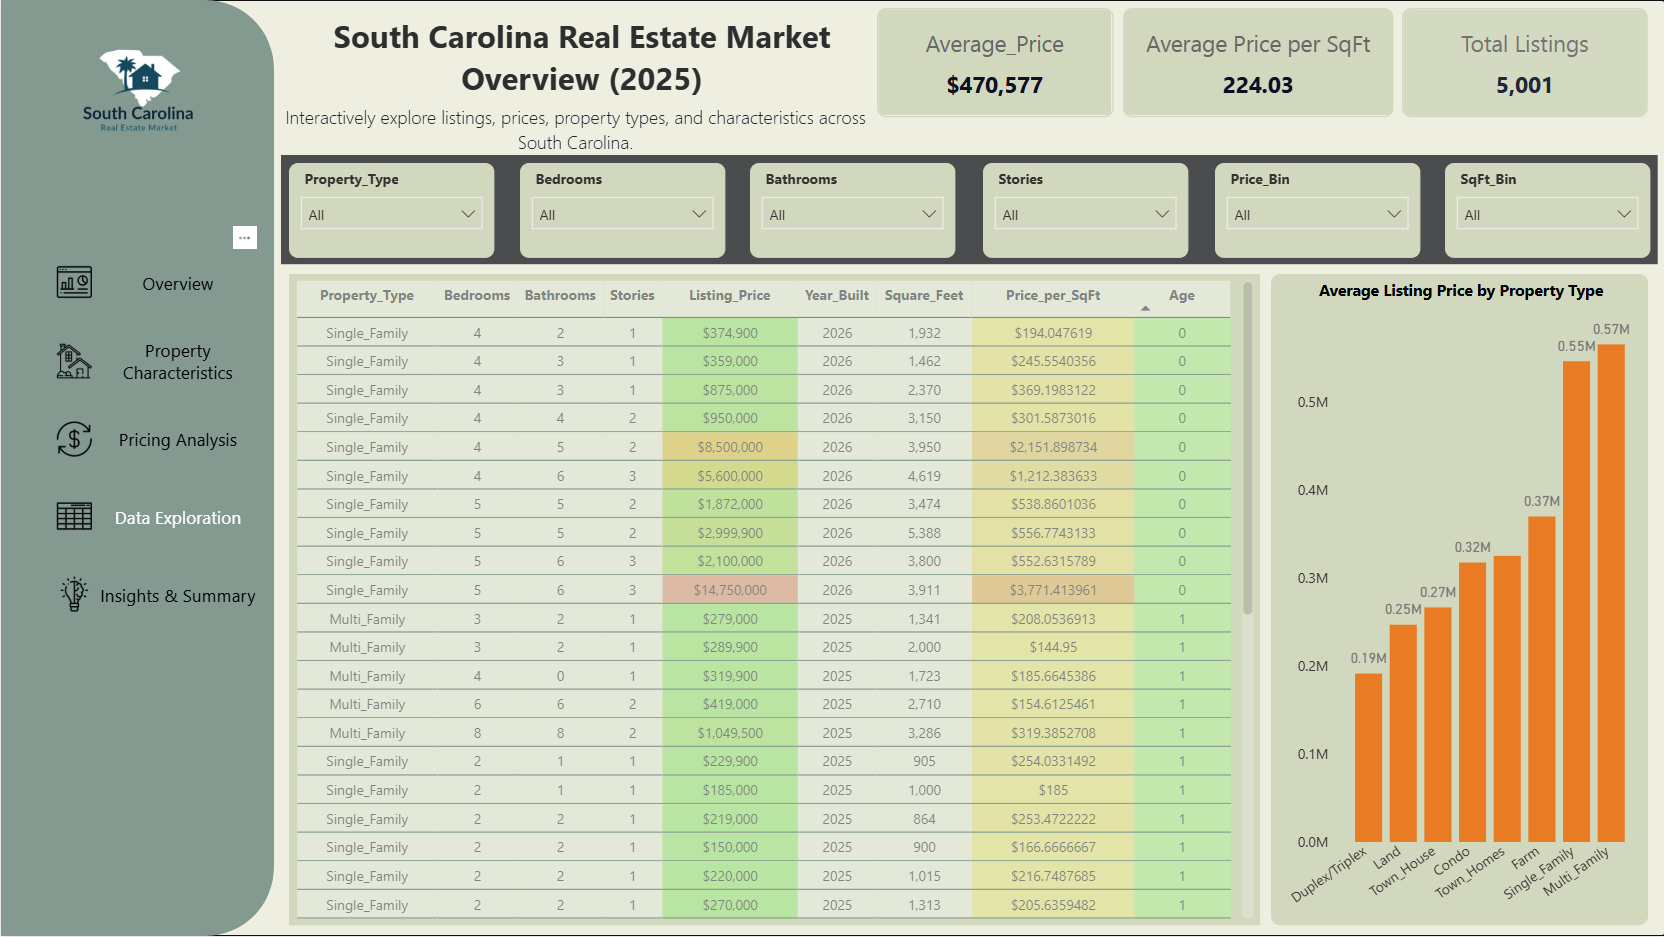

The page's visual inventory and layout, read from the dashboard file:
{"tool":"powerbi","page":{"name":"Data Exploration","canvas":[1280,720],"ordinal":3},"visuals":[{"type":"shape","box":[215.3,119.3,1059.3,84],"z":0},{"type":"shape","box":[0,0,210,720],"z":1000},{"type":"pageNavigator","box":[74.3,192.1,123.6,291.4],"z":2000},{"type":"image","box":[37,438.6,39.3,37.1],"z":3000},{"type":"image","box":[37,259.3,39.3,37.1],"z":4000},{"type":"image","box":[37,378.6,39.3,37.1],"z":5000},{"type":"image","box":[37,198.6,39.3,37.1],"z":6000},{"type":"image","box":[37,319.3,39.3,37.1],"z":7000},{"type":"image","box":[0,0,210,141.4],"z":8000},{"type":"textbox","box":[220,6,454,84],"z":9000},{"type":"textbox","box":[210,75,464,50],"z":10000},{"type":"slicer","fields":{"Values":["realestate_data_southcarolina_2025.Property_Type"]},"box":[221.8,125.5,158.2,72.7],"z":11000},{"type":"slicer","fields":{"Values":["realestate_data_southcarolina_2025.Bedrooms"]},"box":[399.1,125.5,158.2,72.7],"z":12000},{"type":"slicer","fields":{"Values":["realestate_data_southcarolina_2025.Bathrooms"]},"box":[576.4,125.5,158.2,72.7],"z":13000},{"type":"slicer","fields":{"Values":["realestate_data_southcarolina_2025.Stories"]},"box":[755.5,125.5,158.2,72.7],"z":14000},{"type":"slicer","fields":{"Values":["realestate_data_southcarolina_2025.Price_Bin"]},"box":[933.6,125.5,158.2,72.7],"z":15000},{"type":"slicer","fields":{"Values":["realestate_data_southcarolina_2025.SqFt_Bin"]},"box":[1110.9,125.5,158.2,72.7],"z":16000},{"type":"tableEx","fields":{"Values":["realestate_data_southcarolina_2025.Property_Type","realestate_data_southcarolina_2025.Bedrooms","realestate_data_southcarolina_2025.Bathrooms","realestate_data_southcarolina_2025.Stories","realestate_data_southcarolina_2025.Listing_Price","realestate_data_southcarolina_2025.Year_Built","realestate_data_southcarolina_2025.Square_Feet","realestate_data_southcarolina_2025.Price_per_SqFt","realestate_data_southcarolina_2025.Age"]},"box":[221.7,210.6,746.8,500.9],"z":17000},{"type":"cardVisual","fields":{"Data":["realestate_data_southcarolina_2025.Total Listings"]},"box":[1078,6,189,84],"z":18000},{"type":"clusteredColumnChart","title":"Average Listing Price by Property Type","fields":{"Category":["realestate_data_southcarolina_2025.Property_Type"],"Y":["realestate_data_southcarolina_2025.Average Listing_Price"]},"box":[976.6,210.6,290.3,500.9],"z":19000},{"type":"cardVisual","fields":{"Data":["realestate_data_southcarolina_2025.Average Price per SqFt"]},"box":[862.7,6.4,208.2,83.6],"z":20000},{"type":"cardVisual","fields":{"Data":["realestate_data_southcarolina_2025.Average_Price"]},"box":[673.6,6.4,181.8,83.6],"z":21000}]}

Visuals, with their boxes on the page's 1280x720 design canvas (x1, y1, x2, y2). These are canvas units, not pixel positions in the 1664x937 screenshot, which may show the page scaled, cropped or inside an application window:
shape: box(215, 119, 1275, 203)
shape: box(0, 0, 210, 720)
pageNavigator: box(74, 192, 198, 484)
image: box(37, 439, 76, 476)
image: box(37, 259, 76, 296)
image: box(37, 379, 76, 416)
image: box(37, 199, 76, 236)
image: box(37, 319, 76, 356)
image: box(0, 0, 210, 141)
textbox: box(220, 6, 674, 90)
textbox: box(210, 75, 674, 125)
slicer - realestate_data_southcarolina_2025.Property_Type: box(222, 126, 380, 198)
slicer - realestate_data_southcarolina_2025.Bedrooms: box(399, 126, 557, 198)
slicer - realestate_data_southcarolina_2025.Bathrooms: box(576, 126, 735, 198)
slicer - realestate_data_southcarolina_2025.Stories: box(756, 126, 914, 198)
slicer - realestate_data_southcarolina_2025.Price_Bin: box(934, 126, 1092, 198)
slicer - realestate_data_southcarolina_2025.SqFt_Bin: box(1111, 126, 1269, 198)
tableEx - realestate_data_southcarolina_2025.Property_Type x realestate_data_southcarolina_2025.Bedrooms: box(222, 211, 968, 712)
cardVisual - realestate_data_southcarolina_2025.Total Listings: box(1078, 6, 1267, 90)
"Average Listing Price by Property Type" clusteredColumnChart: box(977, 211, 1267, 712)
cardVisual - realestate_data_southcarolina_2025.Average Price per SqFt: box(863, 6, 1071, 90)
cardVisual - realestate_data_southcarolina_2025.Average_Price: box(674, 6, 855, 90)
